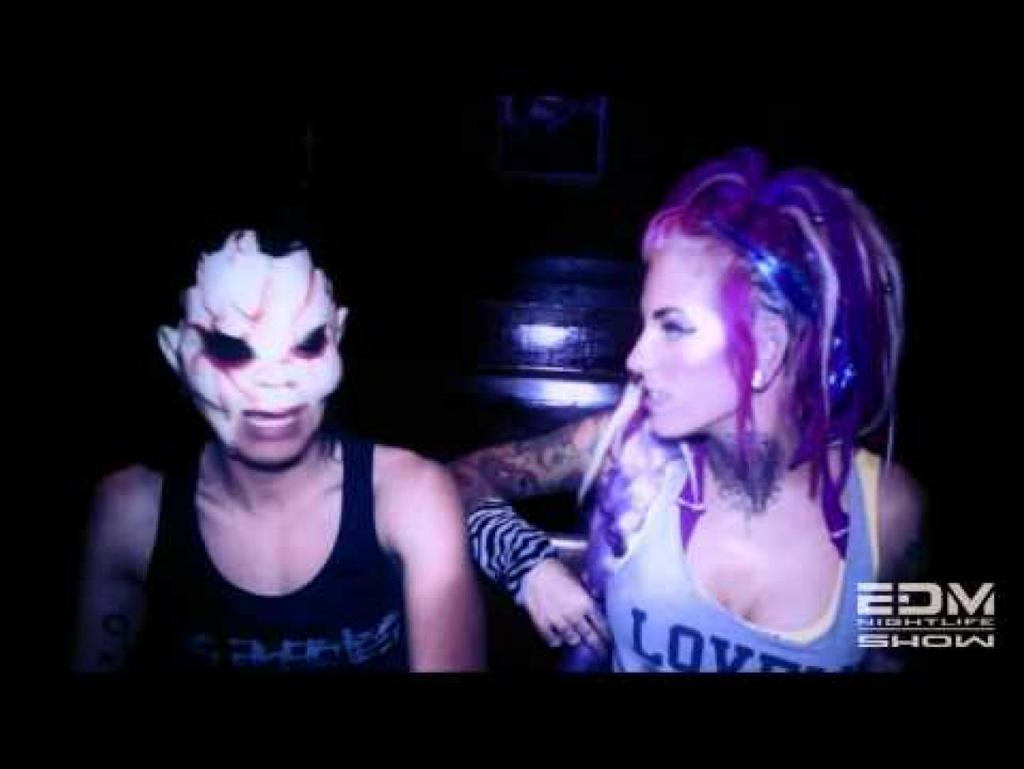face: (202, 254, 334, 458), (636, 234, 762, 438)
